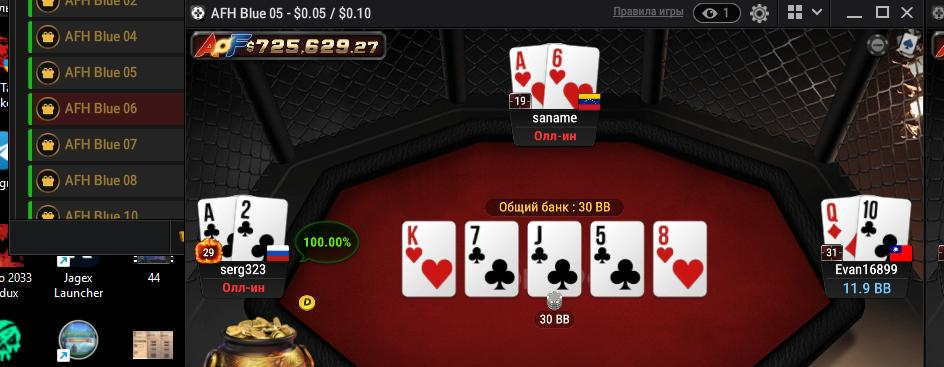10c: (859, 193, 911, 261)
2c: (235, 195, 289, 263)
5c: (590, 221, 643, 297)
6h: (547, 41, 601, 111)
7c: (466, 223, 517, 296)
8h: (654, 222, 706, 296)
Ac: (197, 197, 235, 261)
Ah: (509, 45, 547, 107)
Jc: (528, 222, 581, 297)
Kh: (403, 221, 456, 297)
Qd: (821, 197, 858, 261)
